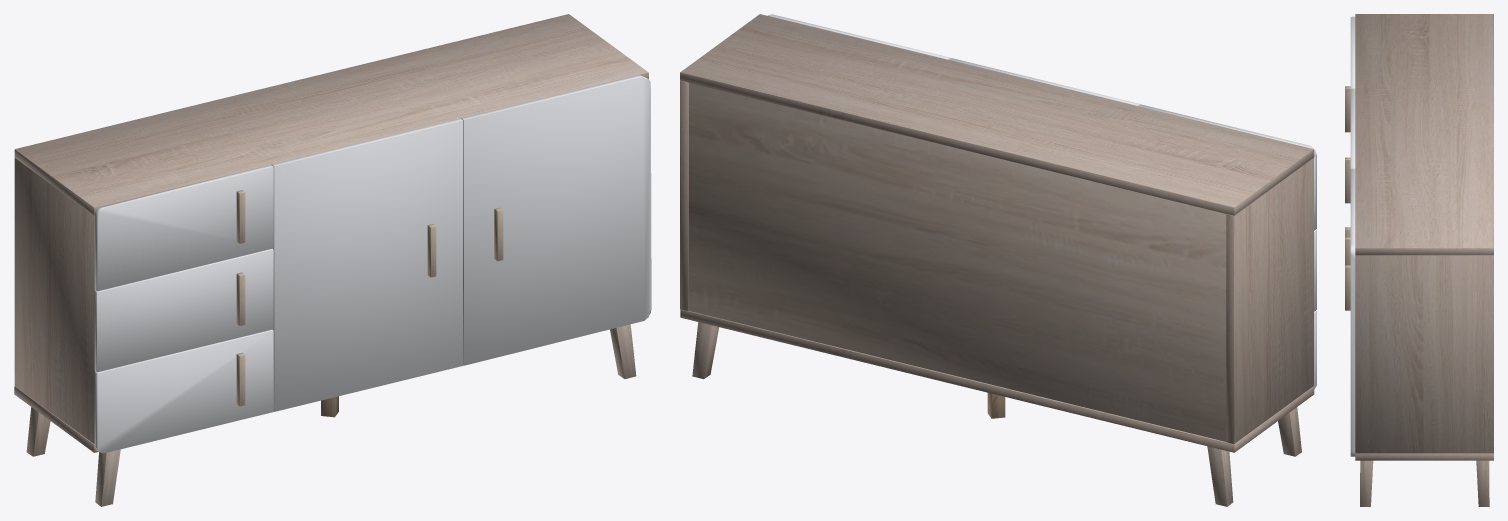
The model's file is abo-B07H8NZHG9.glb.
The picture shows the model from 3 angles, left to right: view 1: azimuth 30°, elevation 25°; view 2: azimuth 150°, elevation 25°; view 3: azimuth 270°, elevation 25°; orthographic projection. The views are drawn at different scales.
Visible parts, largest first — view 1: RootNode; view 2: RootNode; view 3: RootNode.
Part boxes in pixels (x1,y1,x2,y2): RootNode: (14, 14, 651, 506); RootNode: (680, 14, 1316, 506); RootNode: (1345, 14, 1493, 506).
Size of the model in its own units: 1.49 by 0.7795 by 0.3995.
1 material, 1 textured.
